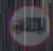Heavy Vehicles: (3, 3, 50, 49)
